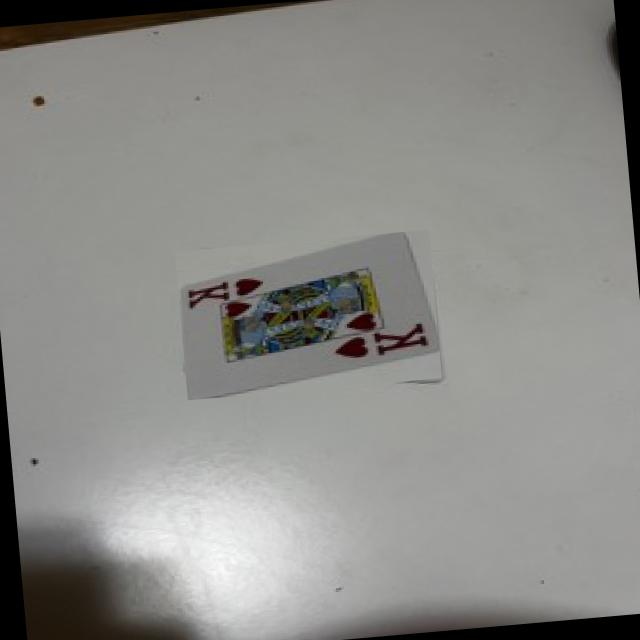King of hearts: (181, 233, 439, 399)
